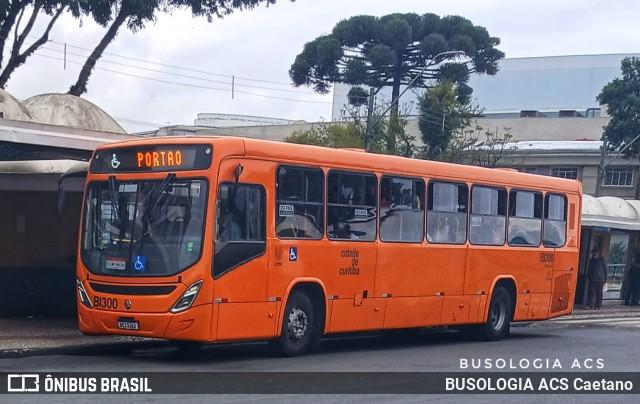PORTAO: (131, 148, 184, 170)
